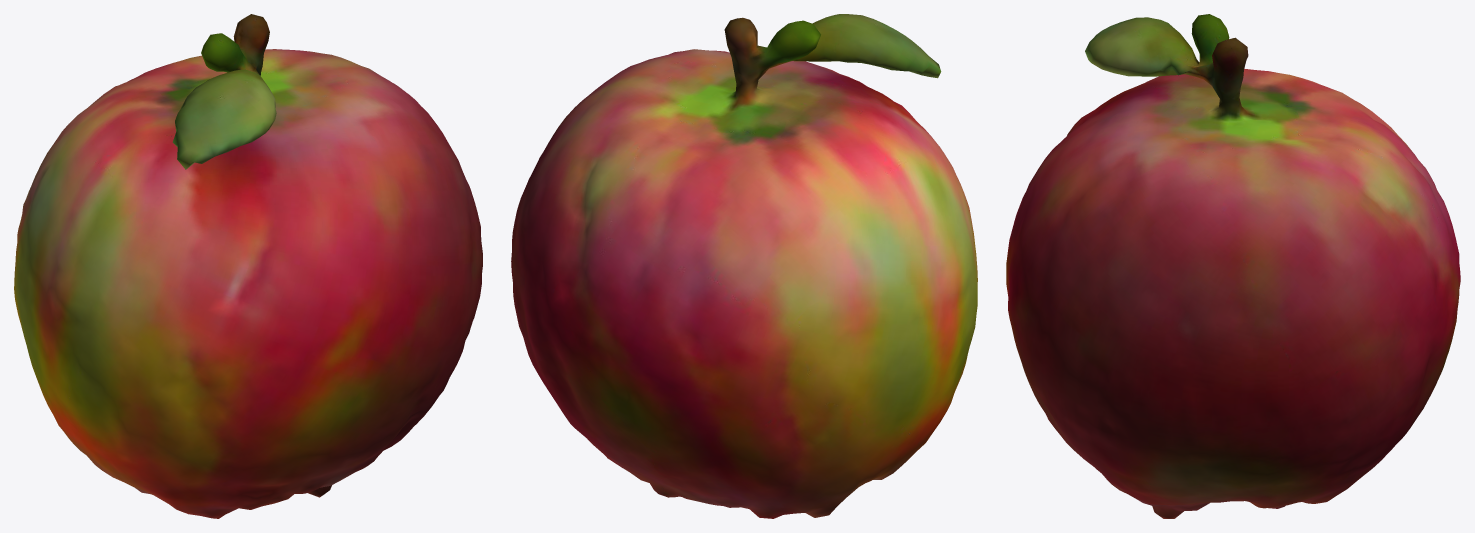
Rendered from apple.glb.
The picture shows the model from 3 angles, left to right: view 1: azimuth 30°, elevation 25°; view 2: azimuth 150°, elevation 25°; view 3: azimuth 270°, elevation 25°; orthographic projection.
Visible parts, largest first — view 1: Mesh1; view 2: Mesh1; view 3: Mesh1.
Boxes of the visible parts, left/top/right/bottom form: Mesh1: left=14, top=14, right=482, bottom=518; Mesh1: left=511, top=14, right=977, bottom=518; Mesh1: left=1006, top=14, right=1460, bottom=518.
Size of the model in its own units: 1.09 by 1.2 by 1.06.
1 material, 1 textured.
